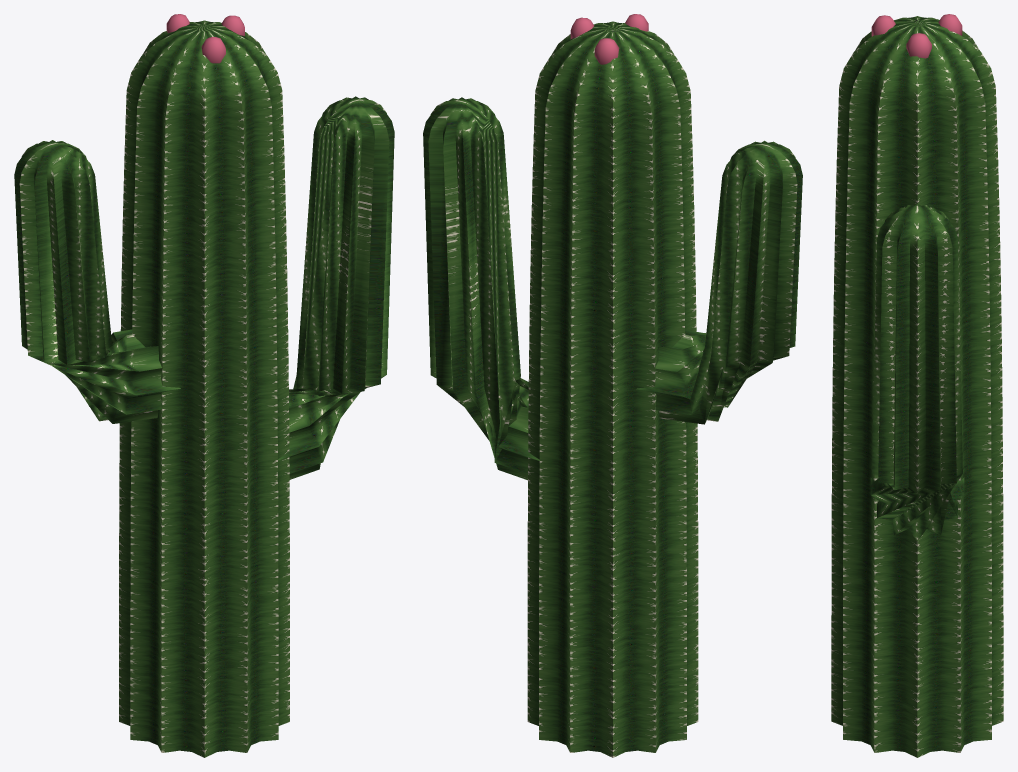
The model's file is ENV_Desert_Cactus.fbx.
3 views of the same model, side by side, from view 1: azimuth 30°, elevation 25°; view 2: azimuth 150°, elevation 25°; view 3: azimuth 270°, elevation 25° (orthographic).
Parts seen in each view (by area): view 1: ENV_Desert_Cactus; view 2: ENV_Desert_Cactus; view 3: ENV_Desert_Cactus.
Part boxes in pixels (box(x1,y1,x2,y2)): ENV_Desert_Cactus: box(14, 14, 394, 757); ENV_Desert_Cactus: box(423, 14, 802, 757); ENV_Desert_Cactus: box(831, 14, 1003, 757).
Size of the model in its own units: 0.888 by 1.6 by 0.356.
